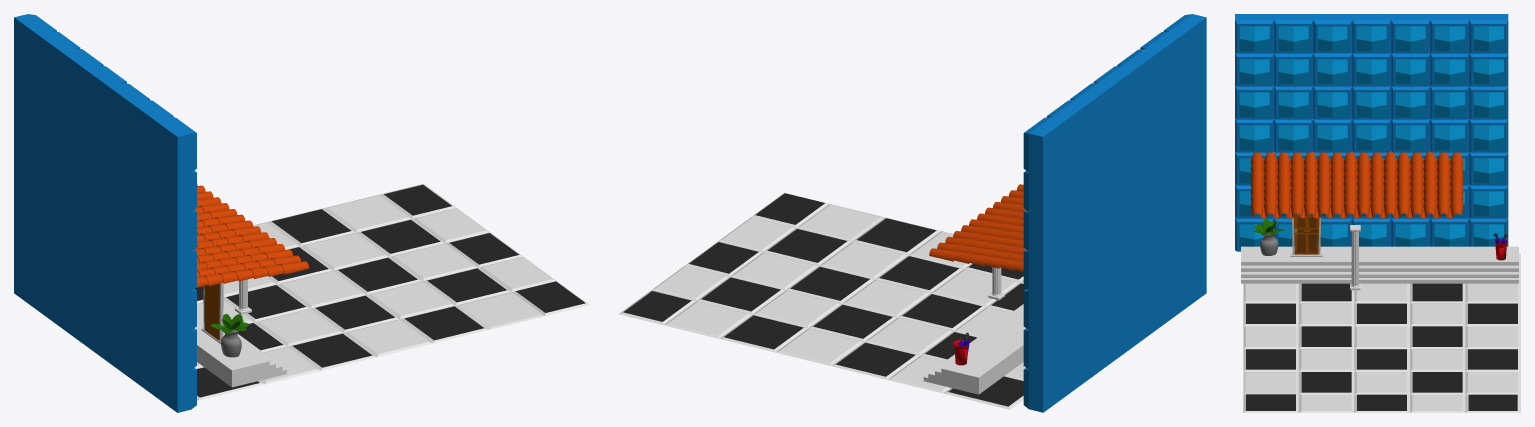
Rendered from Escenario1.fbx.
3 renders of one model, left to right at view 1: azimuth 30°, elevation 25°; view 2: azimuth 150°, elevation 25°; view 3: azimuth 270°, elevation 25°, orthographic. The views are drawn at different scales.
Parts seen in each view (by area): view 1: parez, Suelo, escaleras, tejado.000, tejado.001, PuertaBase.001, tejado.006, tejado.007, tejado.014, tejado.015; view 2: parez, Suelo, escaleras, tejado.023, tejado.022, tejado.016, tejado.017; view 3: parez, Suelo, escaleras, tejado.007, tejado.023, tejado.009, tejado.031, tejado.017, tejado.006, tejado.016, tejado.000, tejado.030 (+10 smaller).
Boxes of the visible parts, bbox=[...] form: parez: bbox=[14, 14, 196, 412]; Suelo: bbox=[194, 184, 589, 400]; escaleras: bbox=[194, 304, 286, 387]; tejado.000: bbox=[196, 261, 308, 287]; tejado.001: bbox=[197, 255, 300, 276]; PuertaBase.001: bbox=[204, 283, 219, 340]; tejado.006: bbox=[197, 249, 292, 269]; tejado.007: bbox=[197, 244, 284, 262]; tejado.014: bbox=[195, 238, 276, 255]; tejado.015: bbox=[195, 232, 269, 248]; parez: bbox=[1023, 14, 1206, 412]; Suelo: bbox=[619, 193, 1025, 409]; escaleras: bbox=[923, 304, 1025, 394]; tejado.023: bbox=[929, 248, 1023, 271]; tejado.022: bbox=[937, 242, 1023, 261]; tejado.016: bbox=[945, 236, 1025, 254]; tejado.017: bbox=[953, 231, 1023, 247]; parez: bbox=[1235, 14, 1508, 251]; Suelo: bbox=[1243, 253, 1520, 412]; escaleras: bbox=[1241, 246, 1518, 283]; tejado.007: bbox=[1290, 152, 1303, 217]; tejado.023: bbox=[1450, 152, 1463, 217]; tejado.009: bbox=[1330, 152, 1343, 217]; tejado.031: bbox=[1370, 152, 1383, 216]; tejado.017: bbox=[1410, 152, 1423, 216]; tejado.006: bbox=[1277, 152, 1290, 217]; tejado.016: bbox=[1423, 151, 1436, 217]; tejado.000: bbox=[1250, 152, 1263, 216]; tejado.030: bbox=[1357, 152, 1370, 217].
Bounding box in the file's own units: 6053 × 3827 × 4294.
